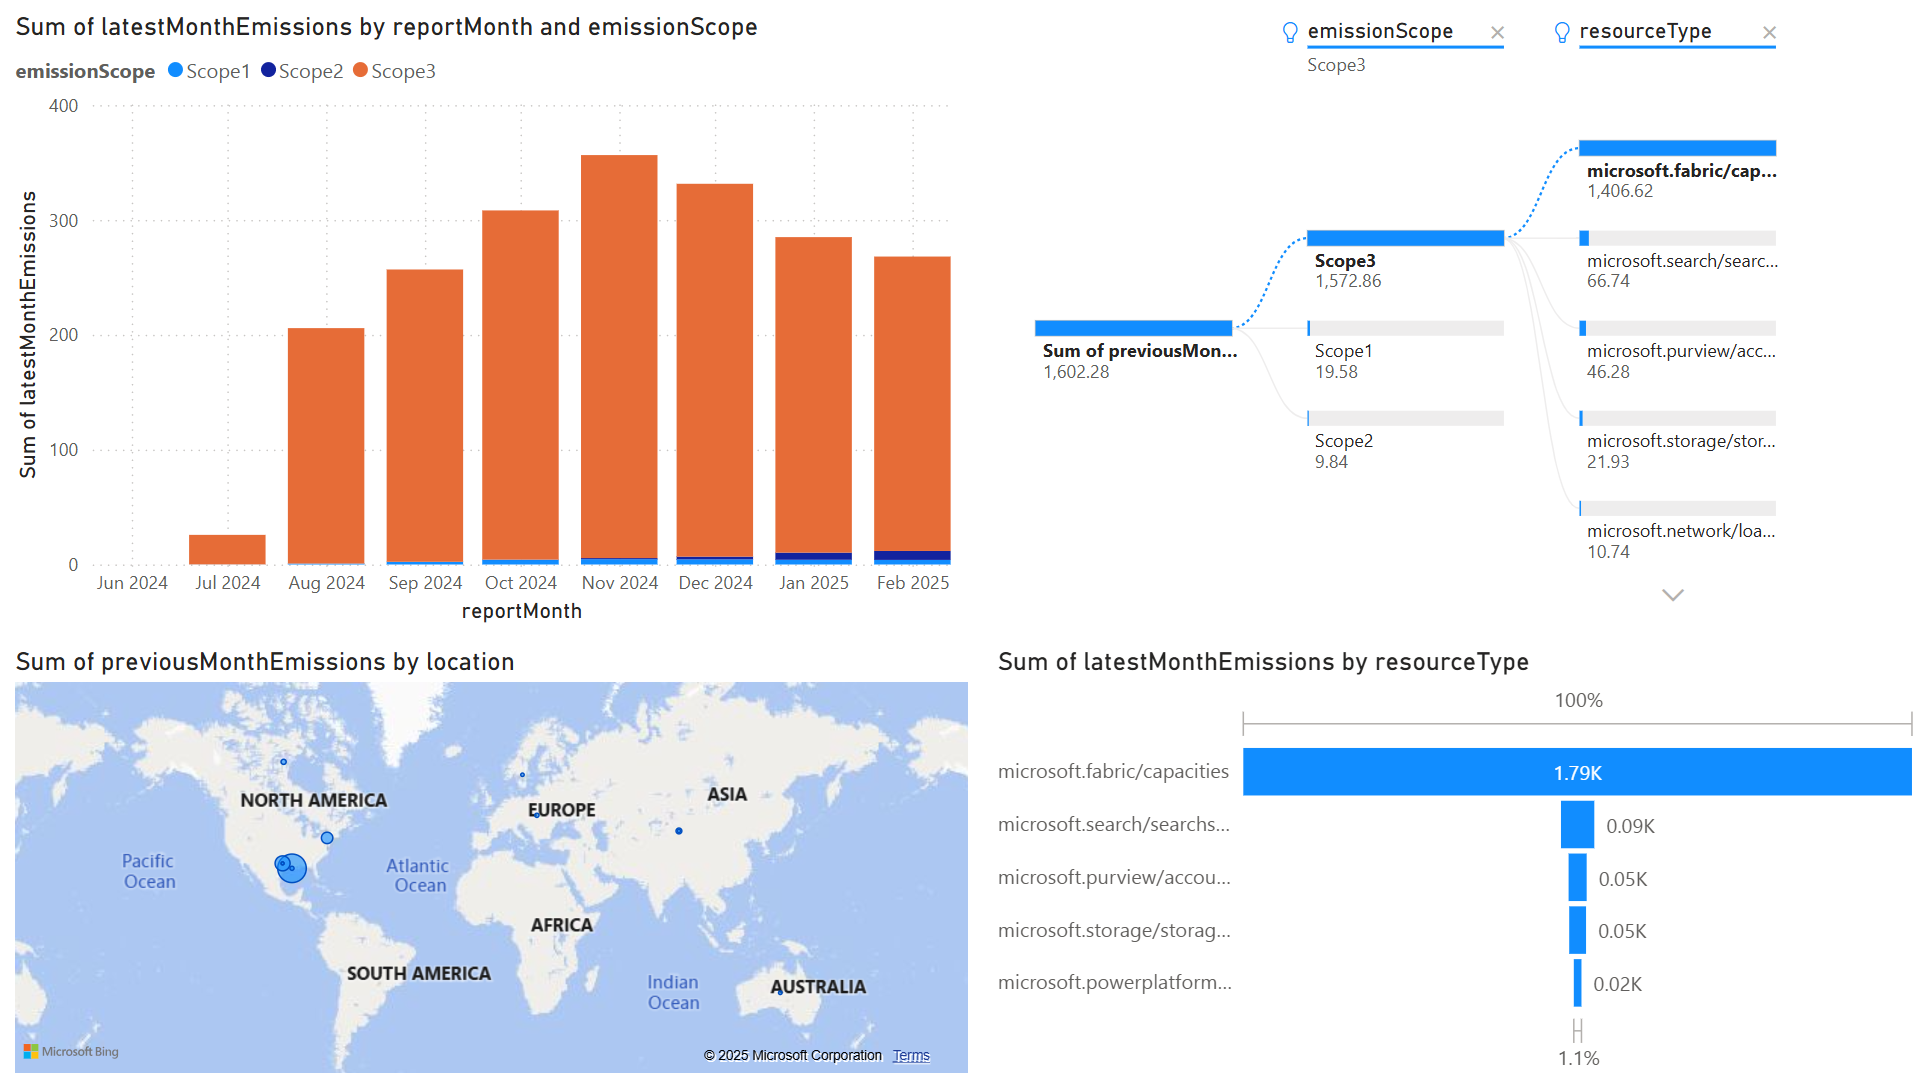

The page's visual inventory and layout, read from the dashboard file:
{"tool":"powerbi","page":{"name":"Page 1","canvas":[1280,720],"ordinal":0},"visuals":[{"type":"map","fields":{"Category":["item_details_emissions_test.location"],"Size":["Sum(item_details_emissions_test.previousMonthEmissions)"]},"box":[10,432,640,288],"z":0},{"type":"decompositionTreeVisual","fields":{"ExplainBy":["item_details_emissions_test.emissionScope","item_details_emissions_test.resourceType"],"Analyze":["Sum(item_details_emissions_test.previousMonthEmissions)"]},"box":[660,0,620,421.9],"z":1000},{"type":"columnChart","fields":{"Category":["item_details_emissions_test.reportMonth"],"Series":["item_details_emissions_test.emissionScope"],"Y":["Sum(item_details_emissions_test.latestMonthEmissions)"]},"box":[10,11.8,630.2,410.4],"z":2000},{"type":"funnel","fields":{"Category":["item_details_emissions_test.resourceType"],"Y":["Sum(item_details_emissions_test.latestMonthEmissions)"]},"box":[660,432,620,288],"z":3000}]}

Visuals, with their boxes in screenshot pixels (x1, y1, x2, y2), scaled from the page's 1280x720 canvas onto the 1923x1075 screenshot:
map - item_details_emissions_test.location x Sum(item_details_emissions_test.previousMonthEmissions): {"left": 15, "top": 645, "right": 977, "bottom": 1074}
decompositionTreeVisual - item_details_emissions_test.emissionScope x item_details_emissions_test.resourceType: {"left": 992, "top": 0, "right": 1922, "bottom": 630}
columnChart - item_details_emissions_test.reportMonth x item_details_emissions_test.emissionScope: {"left": 15, "top": 18, "right": 962, "bottom": 630}
funnel - item_details_emissions_test.resourceType x Sum(item_details_emissions_test.latestMonthEmissions): {"left": 992, "top": 645, "right": 1922, "bottom": 1074}
